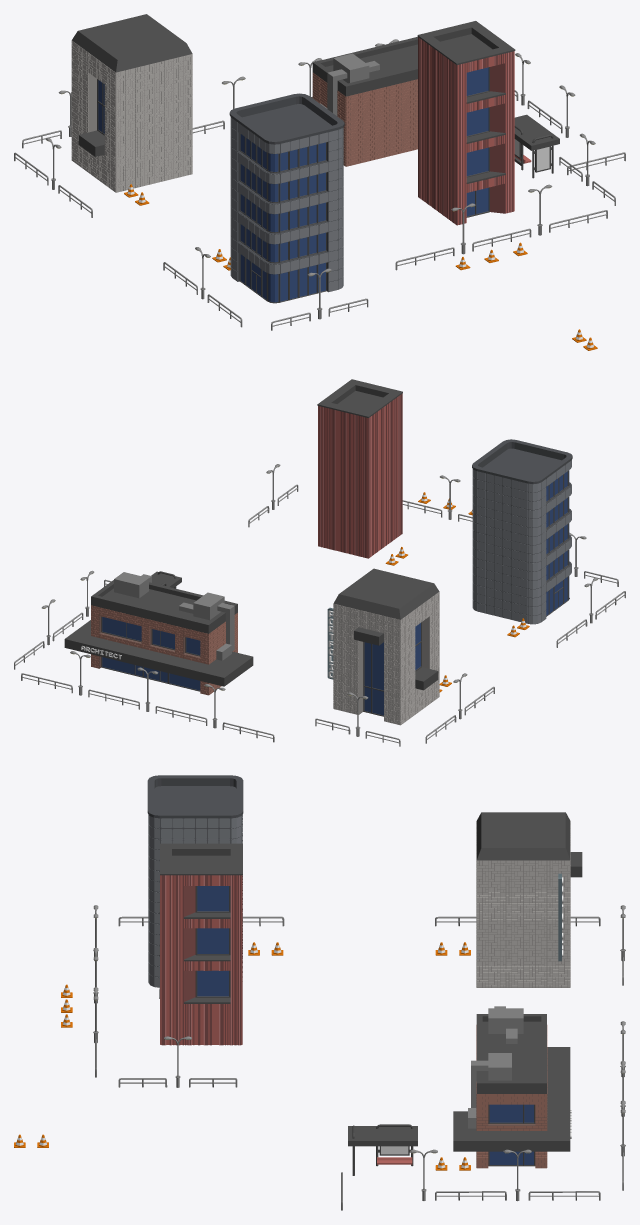
Rendered from msja-world-0425.glb.
3 views of the same model, one above another, from view 1: azimuth 30°, elevation 25°; view 2: azimuth 150°, elevation 25°; view 3: azimuth 270°, elevation 25° (orthographic). The views are drawn at different scales.
Parts seen in each view (by area): view 1: base.001, Cube.974, base, Cube.1000, roof, Cube.926, roof-2, Cube.1841, Cube.287, Cube.1008, Cube.1006, Cube.1007 (+9 smaller); view 2: base.001, Cube.975, Cube.974, Cube.1000, roof-1, roof-2, roof, base, Cube.1003, Cube.309, Cube.298, Cube.965 (+3 smaller); view 3: base.001, Cube.994, base, roof-1, roof, roof-2, Cube.1000, Cube.287, Cube.965, Cube.298, Cube.297, Cube.309 (+5 smaller).
Boxes of the visible parts, left/top/right/bottom form: base.001: left=421, top=29, right=514, bottom=224; Cube.974: left=418, top=37, right=456, bottom=225; base: left=72, top=41, right=192, bottom=192; Cube.1000: left=231, top=99, right=342, bottom=292; roof: left=72, top=14, right=192, bottom=72; Cube.926: left=457, top=51, right=513, bottom=225; roof-2: left=312, top=36, right=417, bottom=96; Cube.1841: left=239, top=253, right=326, bottom=303; Cube.287: left=514, top=114, right=559, bottom=178; Cube.1008: left=239, top=133, right=326, bottom=172; Cube.1006: left=239, top=193, right=326, bottom=233; Cube.1007: left=239, top=223, right=326, bottom=263; base.001: left=318, top=386, right=400, bottom=558; Cube.975: left=318, top=406, right=368, bottom=558; Cube.974: left=368, top=393, right=402, bottom=558; Cube.1000: left=474, top=444, right=571, bottom=624; roof-1: left=64, top=620, right=253, bottom=686; roof-2: left=91, top=580, right=237, bottom=633; roof: left=333, top=568, right=439, bottom=619; base: left=334, top=593, right=439, bottom=724; Cube.1003: left=363, top=642, right=383, bottom=716; Cube.309: left=179, top=592, right=234, bottom=660; Cube.298: left=472, top=439, right=572, bottom=484; Cube.965: left=317, top=379, right=402, bottom=417; base.001: left=160, top=850, right=242, bottom=1044; Cube.994: left=161, top=875, right=241, bottom=1045; base: left=476, top=860, right=569, bottom=987; roof-1: left=453, top=1047, right=570, bottom=1151; roof: left=476, top=812, right=570, bottom=860; roof-2: left=476, top=1014, right=546, bottom=1093; Cube.1000: left=150, top=781, right=240, bottom=987; Cube.287: left=348, top=1124, right=417, bottom=1175; Cube.965: left=160, top=843, right=242, bottom=875; Cube.298: left=147, top=775, right=243, bottom=818; Cube.297: left=468, top=1053, right=511, bottom=1128; Cube.309: left=488, top=1006, right=523, bottom=1043.
Bounding box in the file's own units: 51.32 × 25.15 × 52.24.
15 materials, 2 textured.
